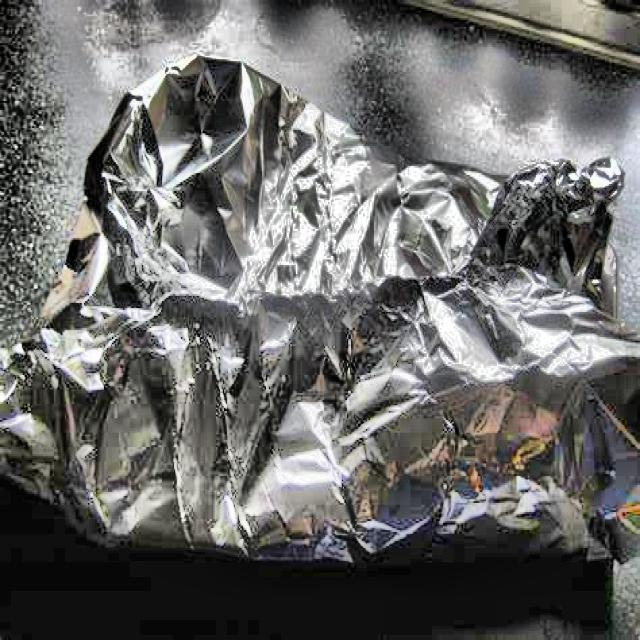Foil: (0, 53, 640, 585)
